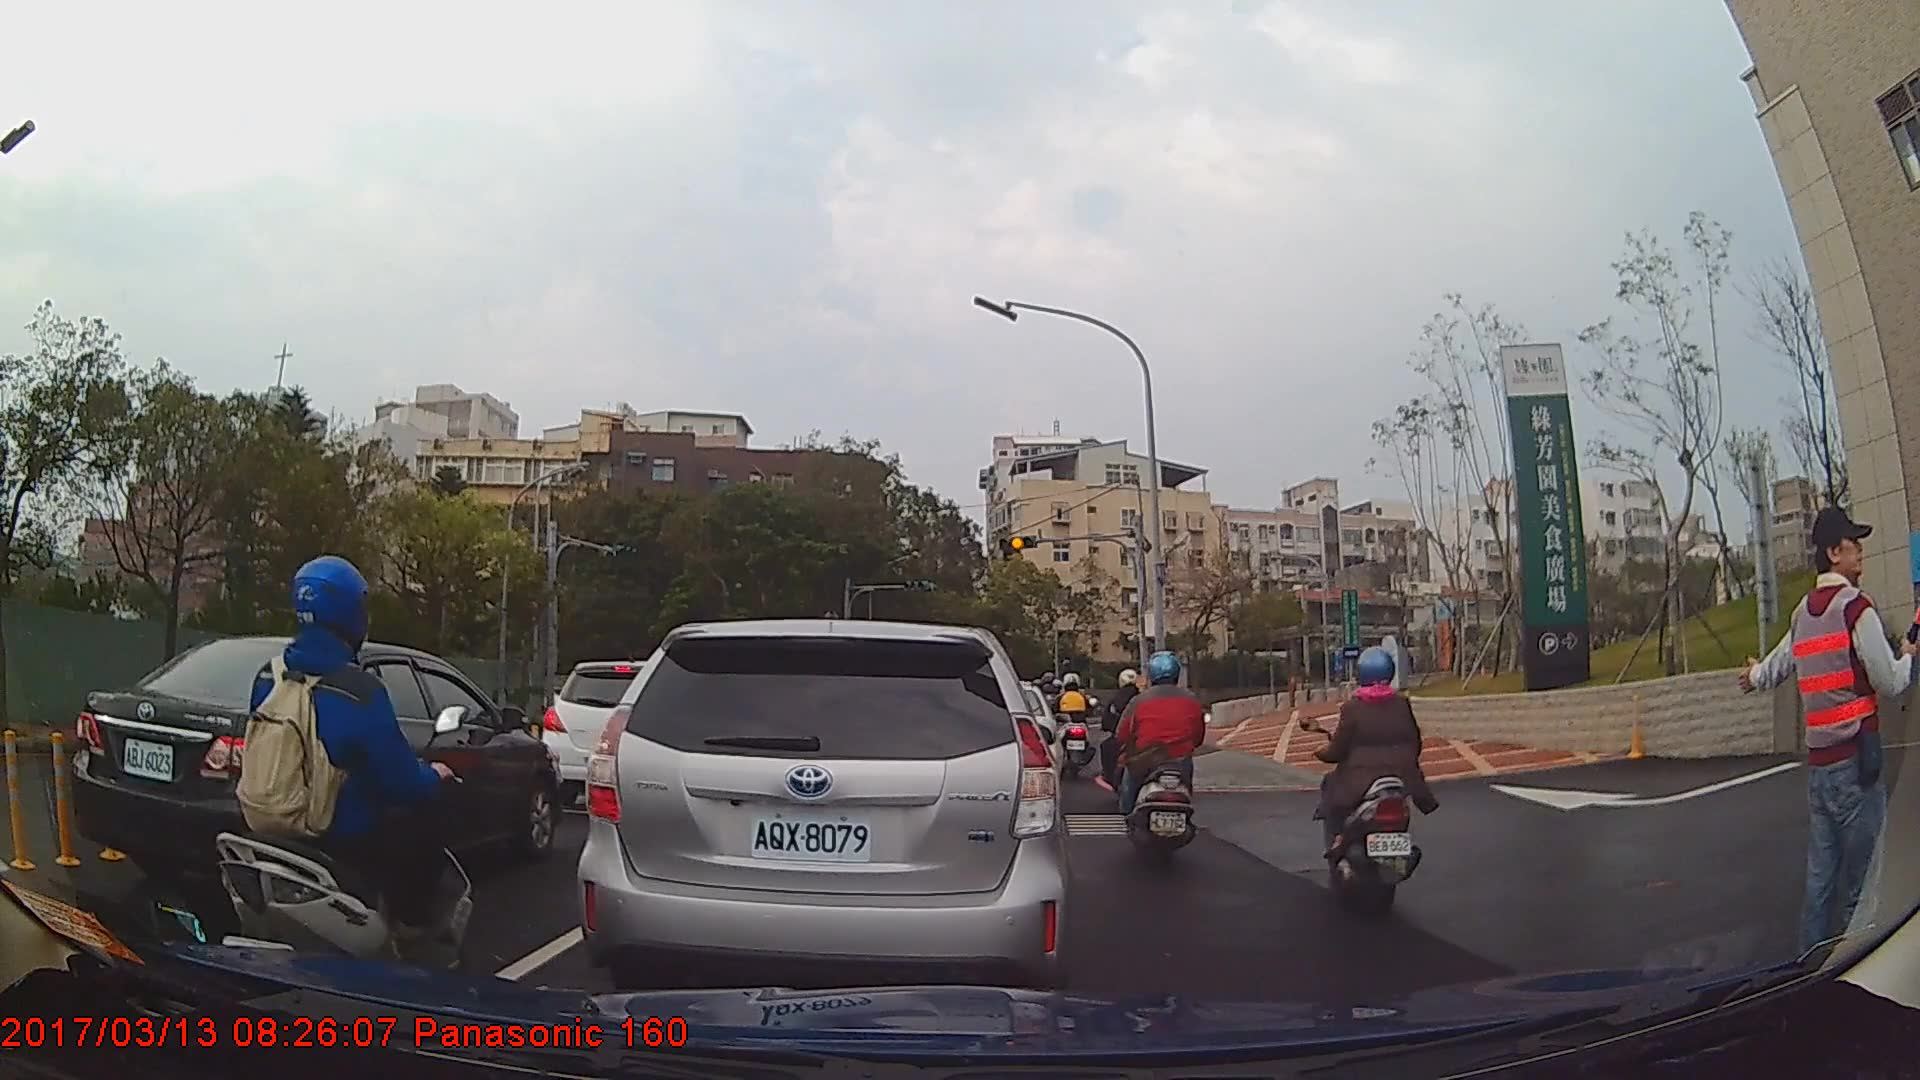pedestrian: (1739, 501, 1916, 979)
rider: (208, 550, 475, 1036), (1317, 642, 1428, 927), (1113, 650, 1203, 857), (1102, 665, 1154, 806), (1056, 669, 1097, 779)
vehicle: (576, 616, 1074, 998), (69, 631, 559, 898), (541, 659, 708, 807)
